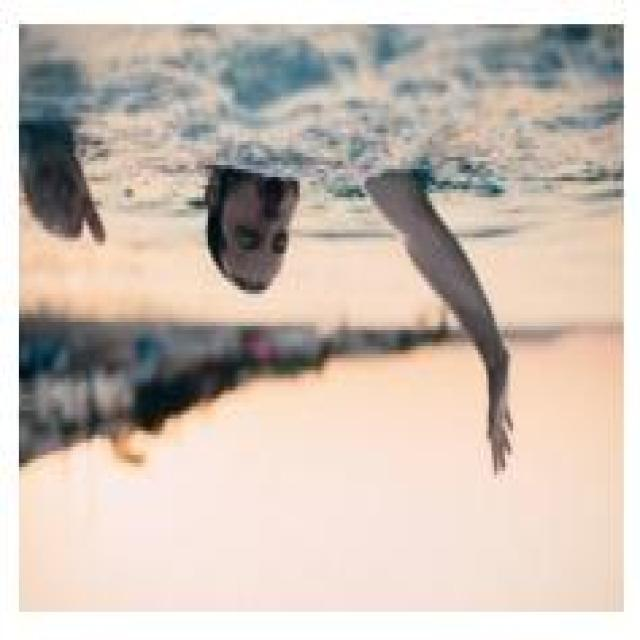Out of Water: (15, 115, 514, 477)
